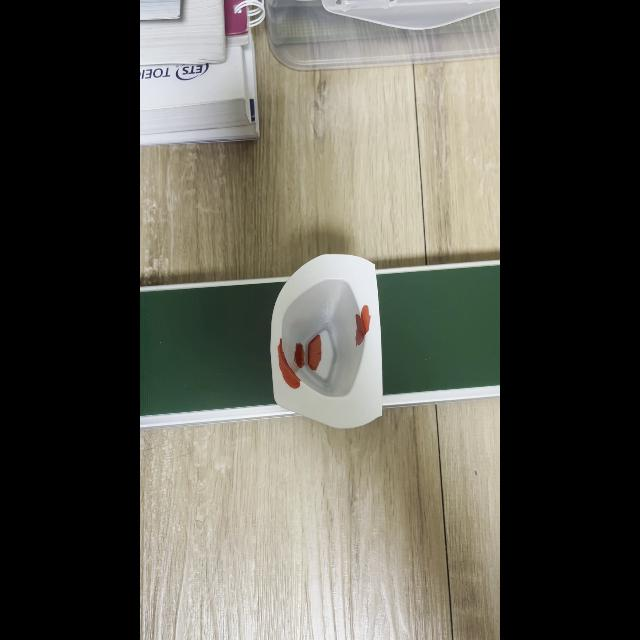dirty: (273, 280, 382, 410)
